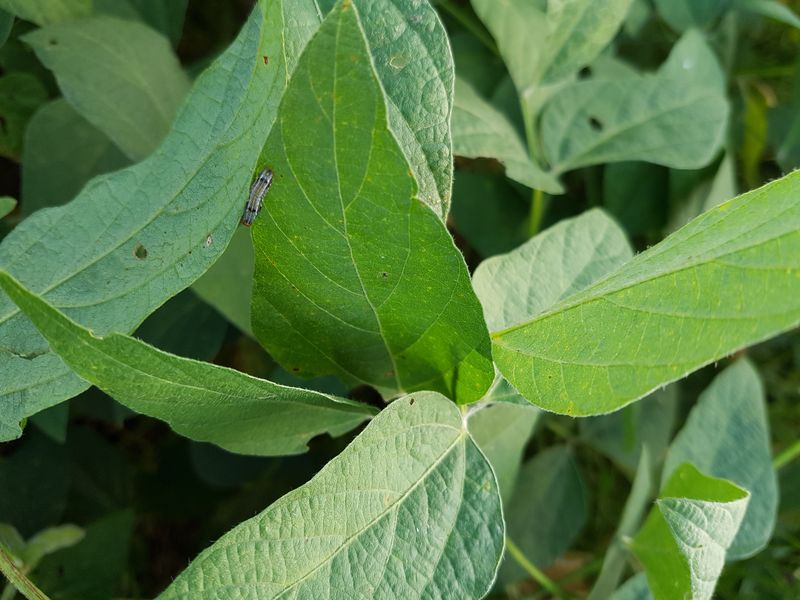Spodoptera_albula: (227, 162, 285, 234)
